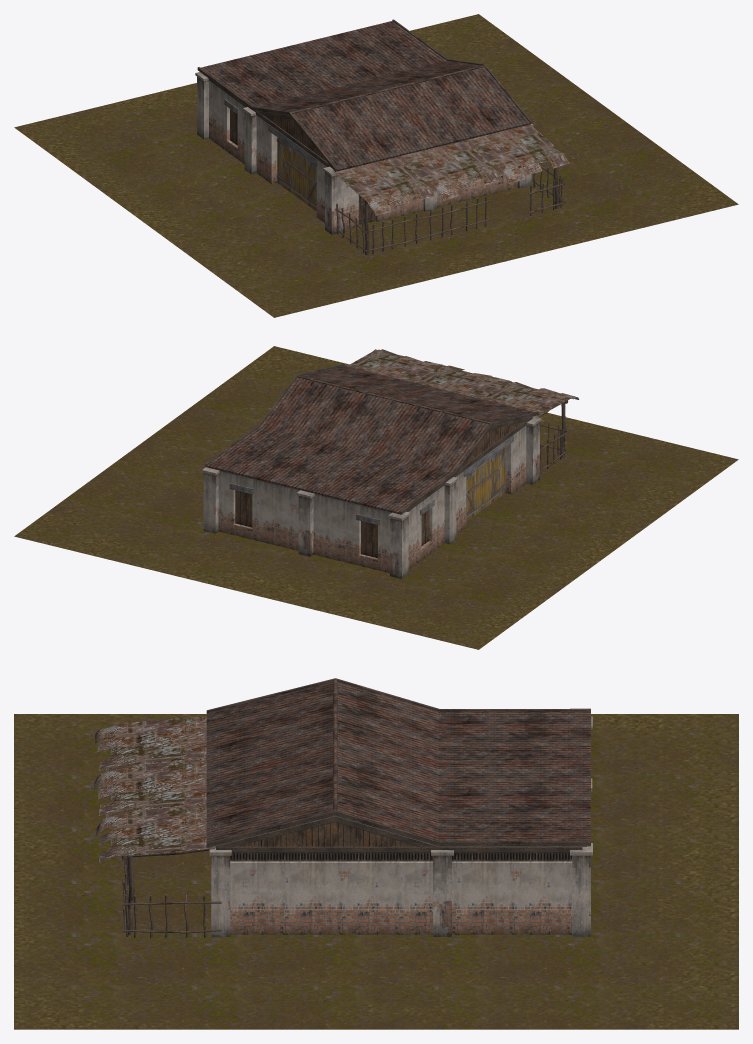
Rendered from cars_barn_finish.fbx.
The picture shows the model from 3 angles, top to bottom: view 1: azimuth 30°, elevation 25°; view 2: azimuth 150°, elevation 25°; view 3: azimuth 270°, elevation 25°; orthographic projection. The views are drawn at different scales.
Visible parts, largest first — view 1: carbarn_low; view 2: carbarn_low; view 3: carbarn_low.
Boxes of the visible parts, bbox=[...] form: carbarn_low: bbox=[14, 14, 738, 317]; carbarn_low: bbox=[14, 346, 738, 649]; carbarn_low: bbox=[14, 678, 738, 1029].
Size of the model in its own units: 1957 by 359 by 1898.
